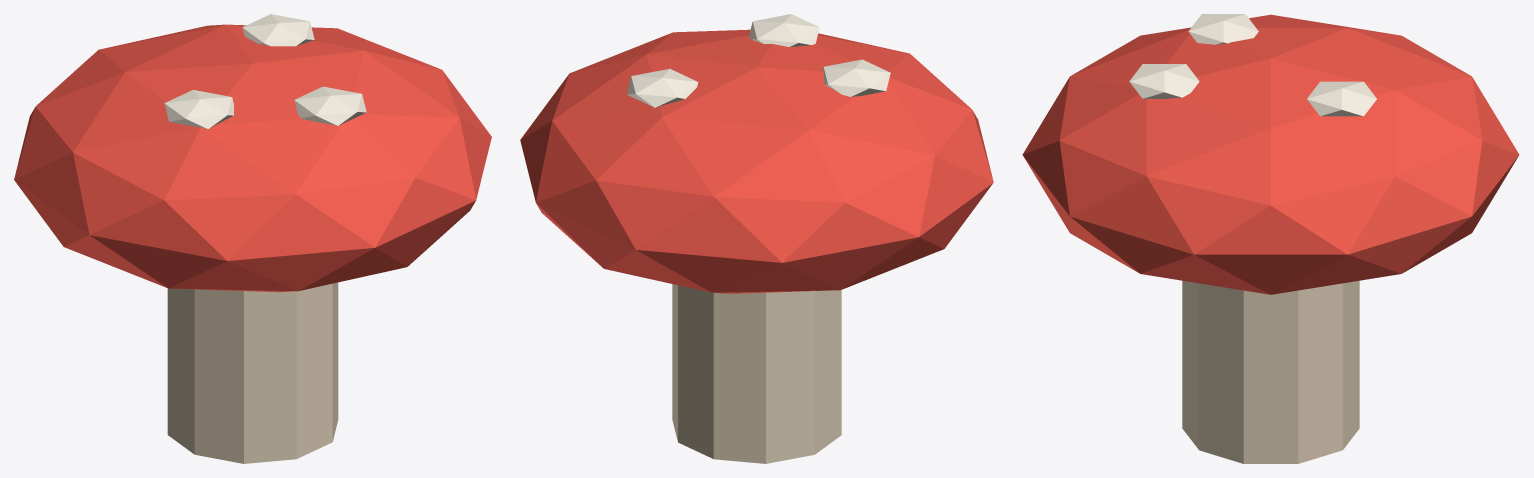
Rendered from mushroom.glb.
The picture shows the model from 3 angles, left to right: view 1: azimuth 30°, elevation 25°; view 2: azimuth 150°, elevation 25°; view 3: azimuth 270°, elevation 25°; orthographic projection. The views are drawn at different scales.
Visible parts, largest first — view 1: cap, stem, spot.002, spot, spot.001; view 2: cap, stem, spot, spot.001, spot.002; view 3: cap, stem, spot.001, spot.002, spot.
Part boxes in pixels (<box>): cap: <box>14,24,491,292</box>; stem: <box>167,282,338,463</box>; spot.002: <box>294,86,366,125</box>; spot: <box>164,90,233,129</box>; spot.001: <box>242,14,314,46</box>; cap: <box>520,29,993,293</box>; stem: <box>672,284,841,463</box>; spot: <box>822,59,890,96</box>; spot.001: <box>626,69,698,107</box>; spot.002: <box>749,14,819,46</box>; cap: <box>1022,14,1519,294</box>; stem: <box>1182,280,1359,463</box>; spot.001: <box>1307,81,1376,116</box>; spot.002: <box>1129,64,1199,98</box>; spot: <box>1188,14,1258,44</box>.
Bounding box in the file's own units: 0.7989 × 0.69 × 0.84.
